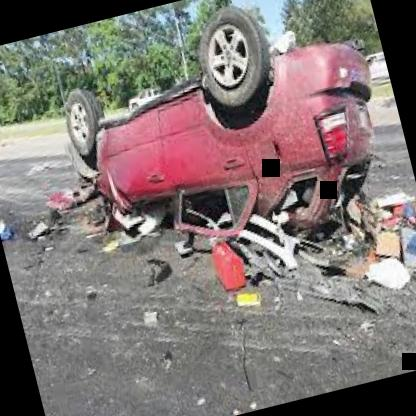accident: (33, 0, 416, 338)
